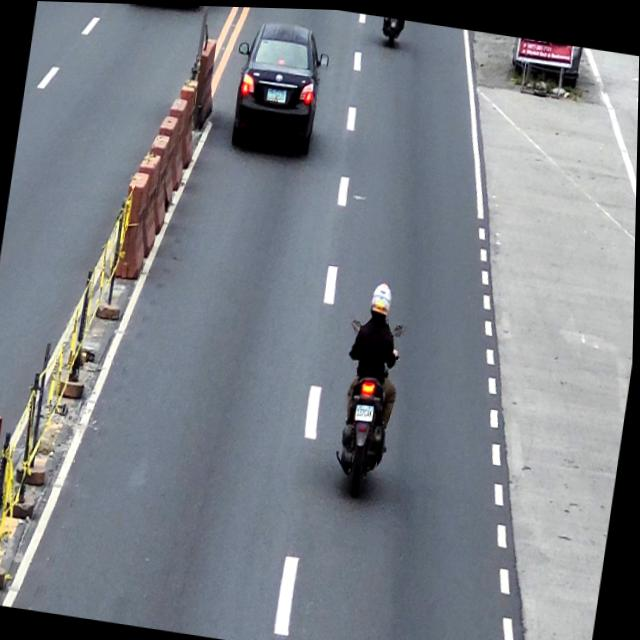Car: (224, 13, 333, 159)
License-Plate: (356, 400, 376, 420), (266, 84, 287, 102)
Motorcycle: (329, 312, 407, 499)
